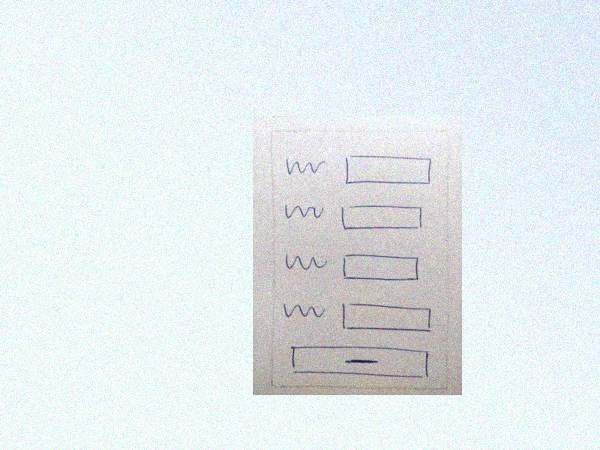button: (287, 343, 436, 382)
text: (282, 248, 330, 275), (279, 297, 327, 324), (283, 153, 329, 179), (281, 199, 328, 224)
text_input: (340, 150, 436, 190), (338, 300, 437, 338), (337, 202, 427, 235), (339, 252, 425, 285)
